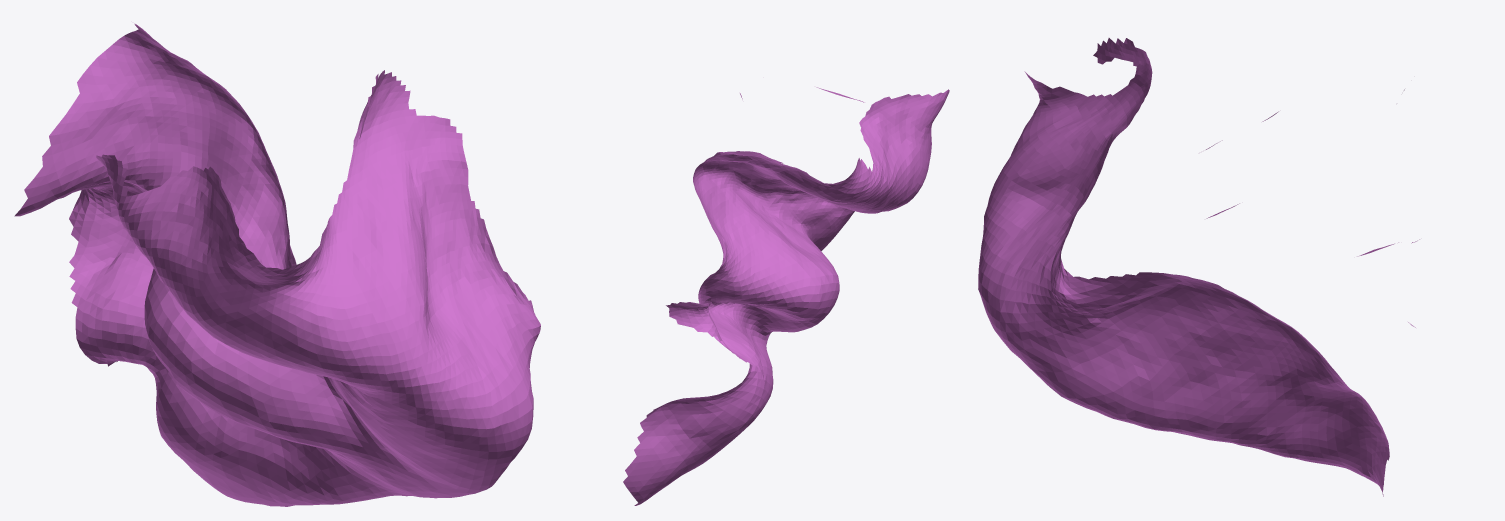
File: lh_inferiorparietal.glb
3 views of the same model, side by side, from view 1: azimuth 30°, elevation 25°; view 2: azimuth 150°, elevation 25°; view 3: azimuth 270°, elevation 25° (orthographic). The views are drawn at different scales.
Visible parts, largest first — view 1: world; view 2: world; view 3: world.
Part boxes in pixels (left/top/right/bottom): world: left=14, top=23, right=540, bottom=506; world: left=623, top=87, right=949, bottom=505; world: left=978, top=38, right=1419, bottom=496.
Bounding box in the file's own units: 28.15 × 43.37 × 44.62.
